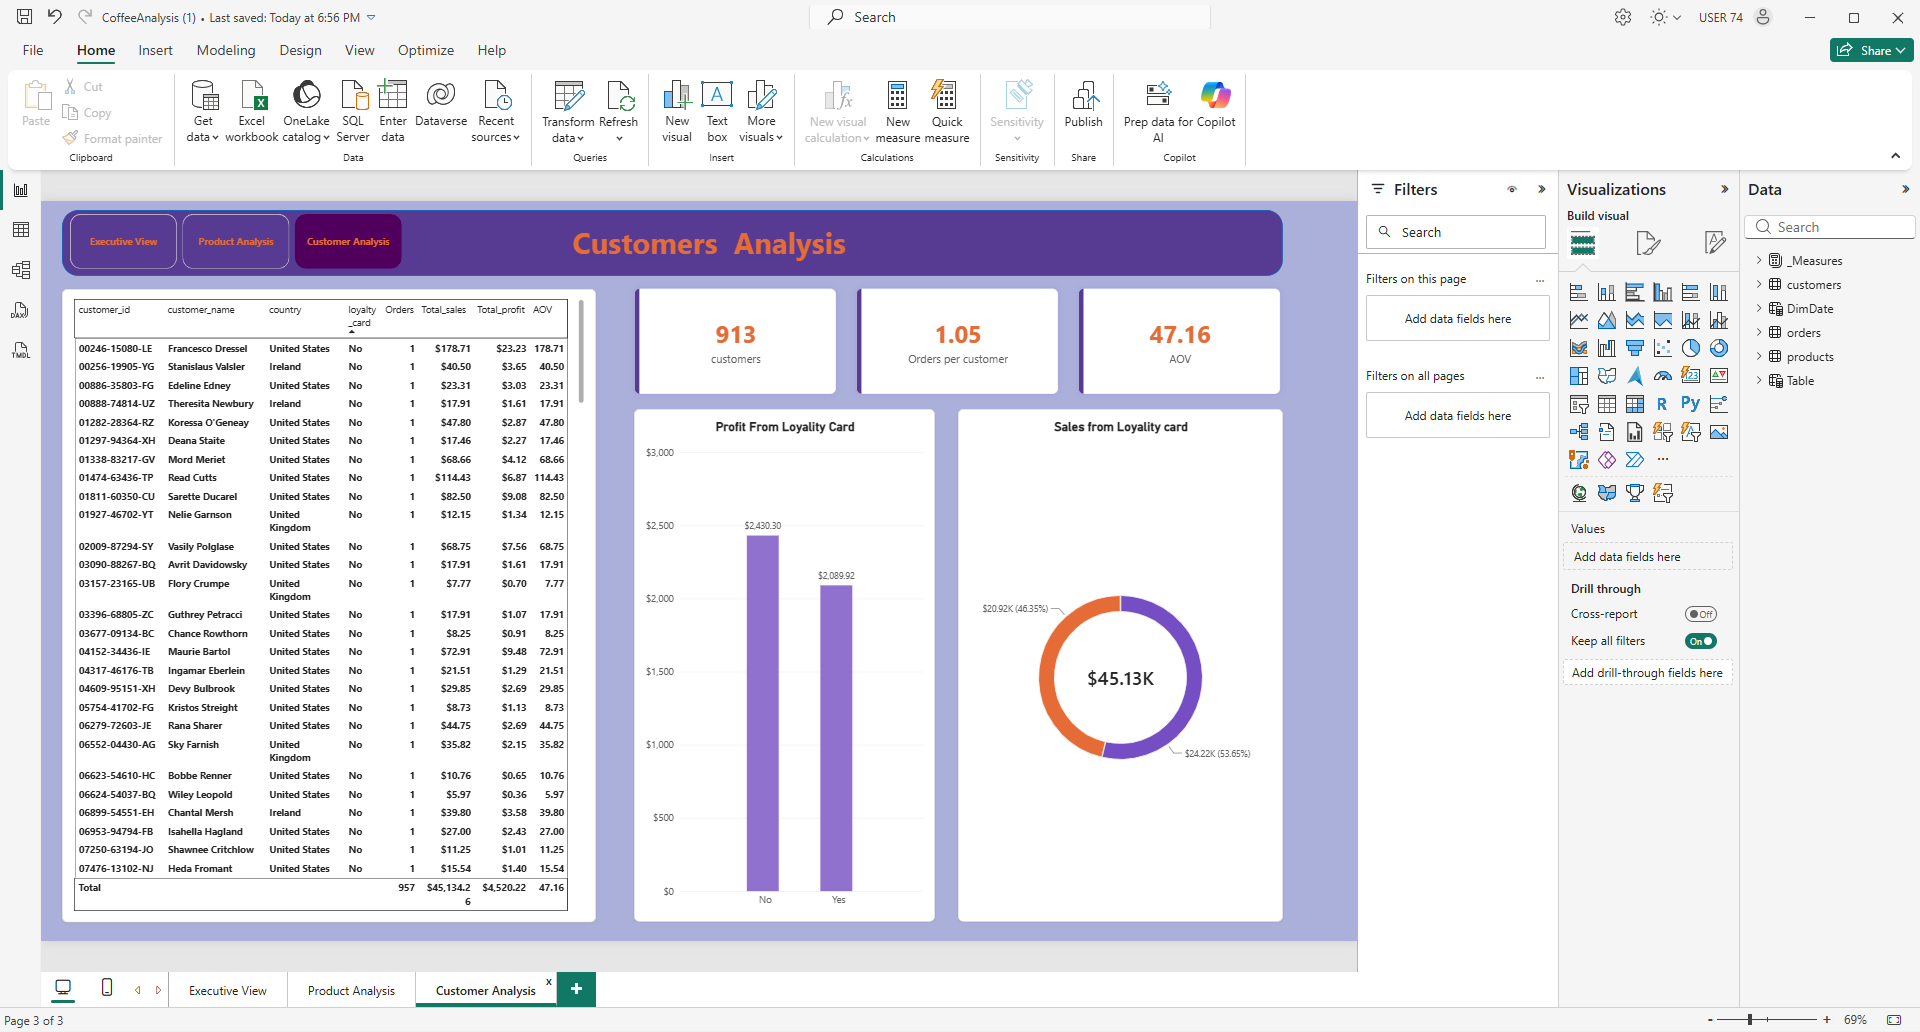

This screenshot's page, from the dashboard's own definition file:
{"tool":"powerbi","page":{"name":"Customer Analysis","canvas":[1920,1080],"ordinal":2},"visuals":[{"type":"donutChart","title":"Sales from Loyality card","fields":{"Category":["customers.loyalty_card"],"Y":["_Measures.Total_sales"]},"box":[1337.9,303.5,474.2,748.4],"z":0},{"type":"clusteredColumnChart","title":"Profit From Loyality Card","fields":{"Category":["customers.loyalty_card"],"Y":["_Measures.Total_profit"]},"box":[865.2,303.5,439.1,748.4],"z":1000},{"type":"cardVisual","fields":{"Data":["_Measures.customers","_Measures.Orders per customer","_Measures.AOV"]},"box":[855,116.7,966.7,176.7],"z":2000},{"type":"tableEx","fields":{"Values":["customers.customer_id","customers.customer_name","customers.country","customers.loyalty_card","_Measures.Orders","_Measures.Total_sales","_Measures.Total_profit","_Measures.AOV"]},"box":[30.6,128.4,779.1,923.5],"z":3000},{"type":"shape","box":[30.6,13.1,1781.4,96.3],"z":4000},{"type":"textbox","box":[365,30,1220,78.3],"z":5000},{"type":"pageNavigator","box":[42.3,19,484.4,80.2],"z":6000}]}

Visuals, with their boxes on the page's 1920x1080 design canvas (x1, y1, x2, y2). These are canvas units, not pixel positions in the 1920x1032 screenshot, which may show the page scaled, cropped or inside an application window:
"Sales from Loyality card" donutChart: pyautogui.locateOnScreen(1338, 304, 1812, 1052)
"Profit From Loyality Card" clusteredColumnChart: pyautogui.locateOnScreen(865, 304, 1304, 1052)
cardVisual - _Measures.customers x _Measures.Orders per customer: pyautogui.locateOnScreen(855, 117, 1822, 293)
tableEx - customers.customer_id x customers.customer_name: pyautogui.locateOnScreen(31, 128, 810, 1052)
shape: pyautogui.locateOnScreen(31, 13, 1812, 109)
textbox: pyautogui.locateOnScreen(365, 30, 1585, 108)
pageNavigator: pyautogui.locateOnScreen(42, 19, 527, 99)
